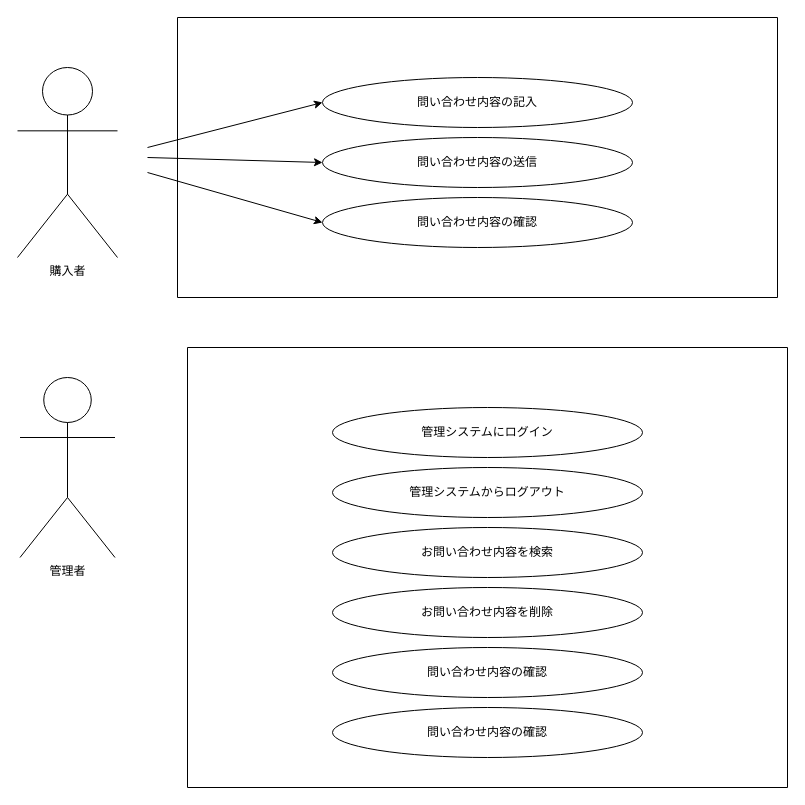
The diagram is 805 pixels wide and 805 high, and some of its shapes have lost their labels. The box of each missing label's shape, as (x1, y1, x2, y2) in pixels:
問い合わせ管理システム: (186, 346, 788, 788)
問い合わせ送信システム: (176, 16, 778, 298)
